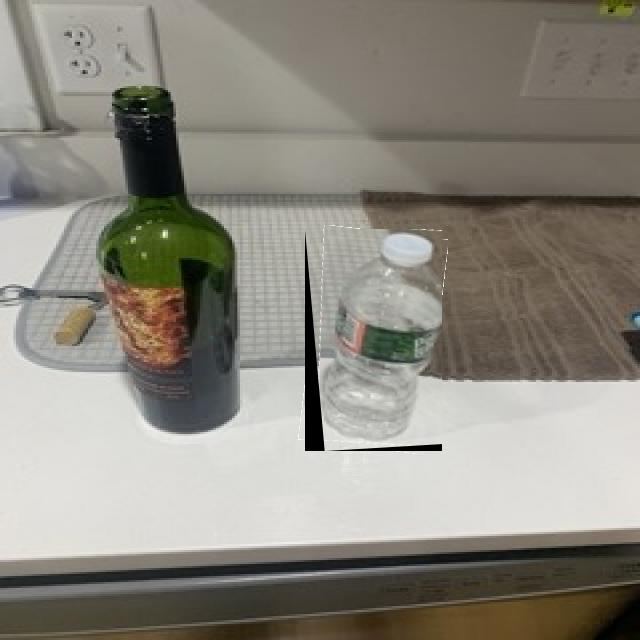water_bottle: (305, 229, 442, 451)
